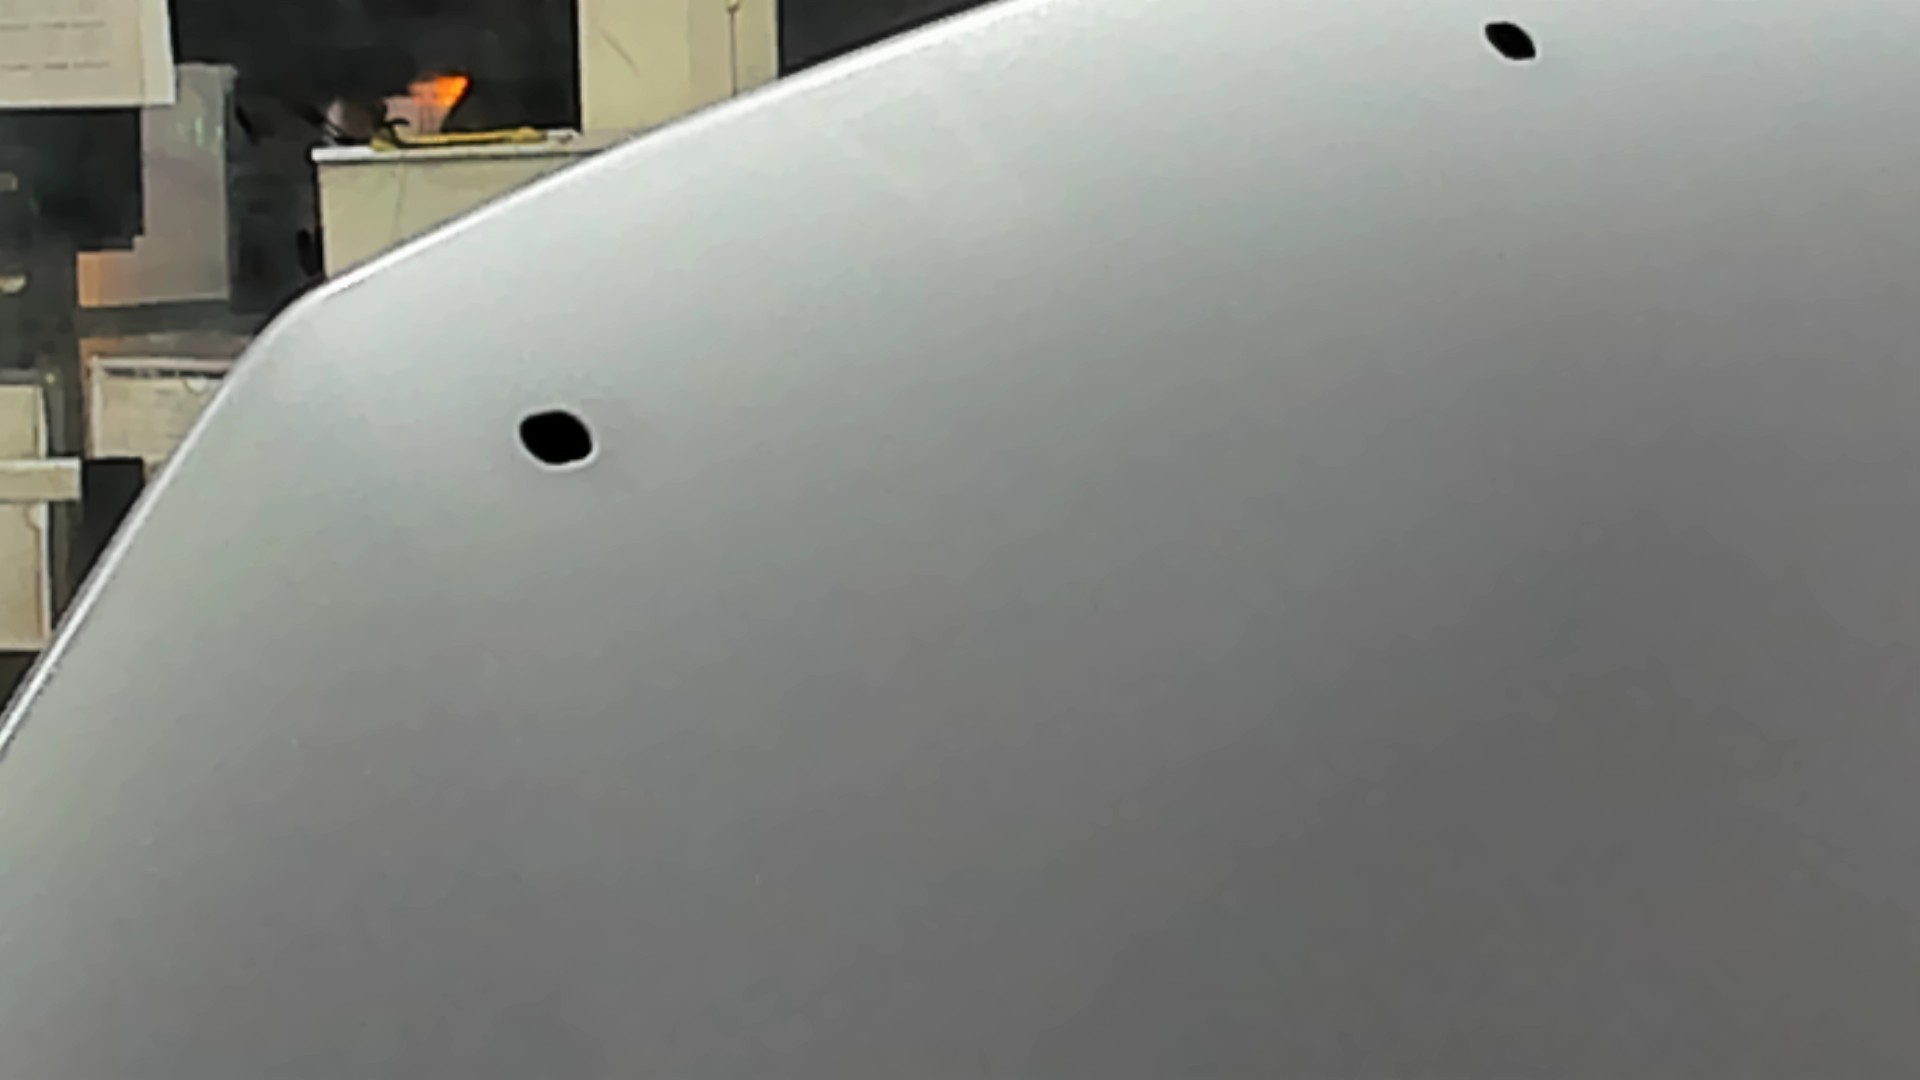Agujero: (518, 407, 596, 467), (1481, 20, 1538, 62)
